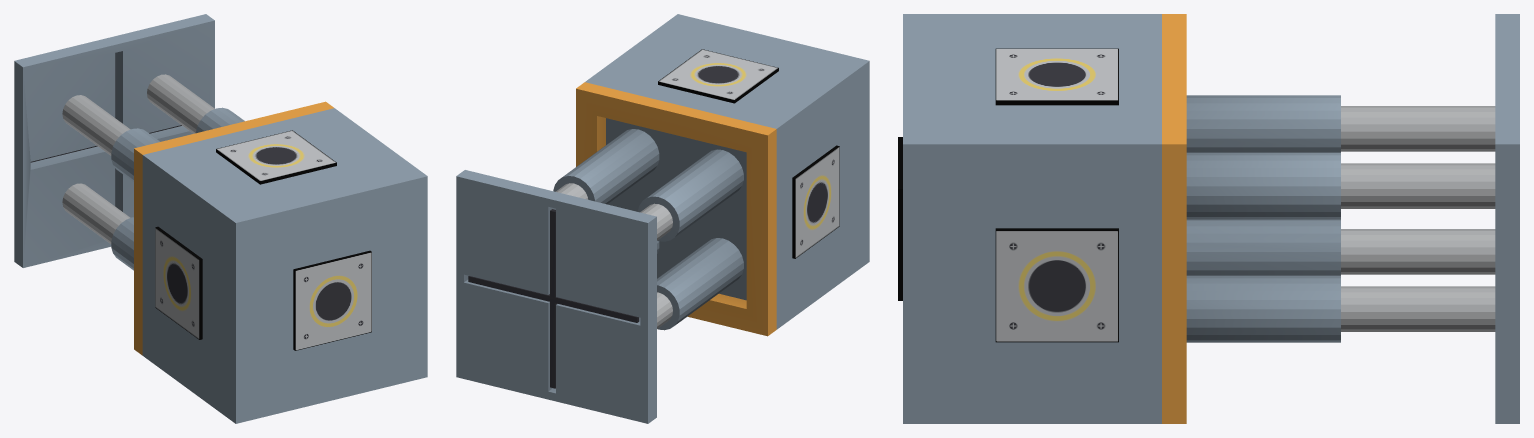
File: extended.glb
3 renders of one model, left to right at view 1: azimuth 30°, elevation 25°; view 2: azimuth 150°, elevation 25°; view 3: azimuth 270°, elevation 25°, orthographic. The views are drawn at different scales.
Visible parts, largest first — view 1: Body, Head, NegY, NegX, PosZ, Stage; view 2: Body, Head, Stage, NegX, PosZ; view 3: Body, Head, Stage, PosX, PosZ, NegY.
Boxes of the visible parts, x1,y1,x2,y2 form: Body: (134, 101, 427, 423); Head: (14, 14, 214, 267); NegY: (293, 250, 371, 350); NegX: (155, 226, 202, 339); PosZ: (216, 130, 336, 184); Stage: (111, 107, 244, 270); Body: (576, 14, 869, 336); Head: (456, 170, 672, 423); Stage: (553, 129, 743, 330); NegX: (792, 145, 839, 258); PosZ: (658, 49, 778, 103); Body: (903, 14, 1186, 423); Head: (1341, 14, 1519, 423); Stage: (1186, 95, 1340, 342); PosX: (995, 228, 1118, 342); PosZ: (995, 48, 1118, 105); NegY: (898, 137, 902, 300).
Size of the model in its own units: 1.03 by 1.03 by 2.02.
Materials: 5 (1 with a texture image).
